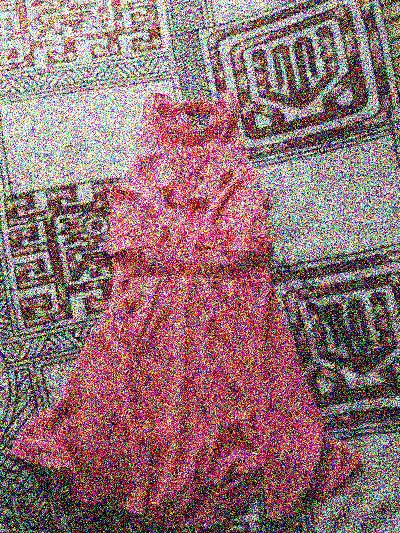Dress: (11, 71, 373, 523)
